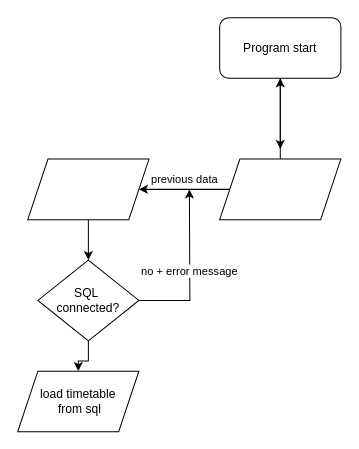
This 359x449 diagram has some shape labels left out. The shapes that lost their labels are listed below. From the top down, each one's box as (x1, y1, x2, y2) in pixels, then its label:
(27, 158, 149, 220): Insert name of timetable
(219, 158, 341, 220): main menu: previous data new data
